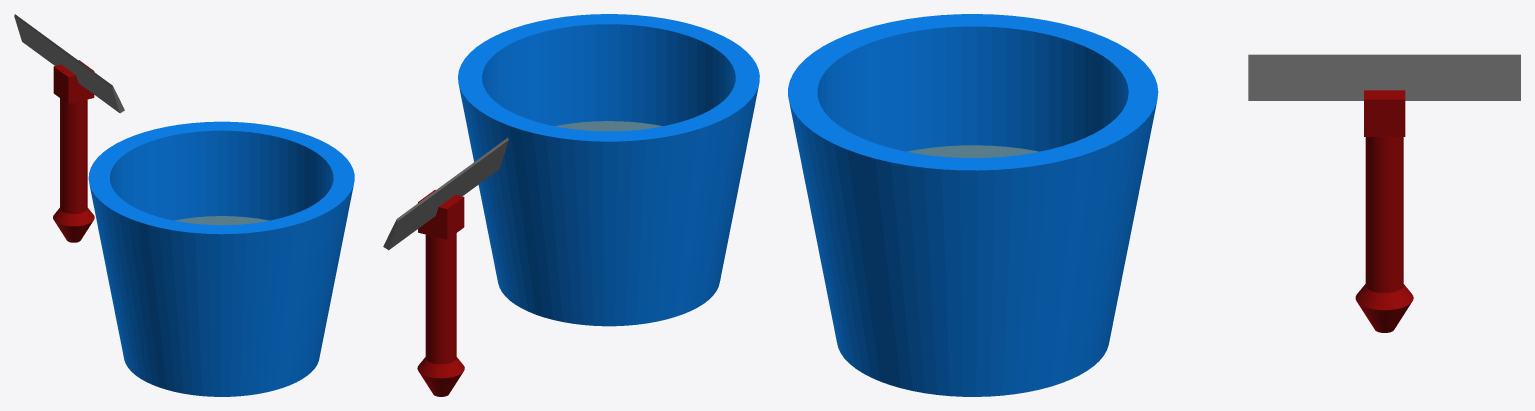
Rendered from NewJobJustDropped.fbx.
The picture shows the model from 3 angles, left to right: view 1: azimuth 30°, elevation 25°; view 2: azimuth 150°, elevation 25°; view 3: azimuth 270°, elevation 25°; orthographic projection. The views are drawn at different scales.
Parts seen in each view (by area): view 1: Cylinder, polySurface2, polySurface1; view 2: Cylinder, polySurface2, polySurface1; view 3: Cylinder, polySurface1, polySurface2.
Boxes of the visible parts, x1,y1,x2,y2 form: Cylinder: (88,121,354,396); polySurface2: (53,60,94,242); polySurface1: (14,14,124,113); Cylinder: (458,14,759,326); polySurface2: (417,190,464,396); polySurface1: (383,138,508,250); Cylinder: (788,14,1158,396); polySurface1: (1248,54,1520,100); polySurface2: (1355,90,1413,332).
Bounding box in the file's own units: 2.72 × 2.25 × 5.38.
